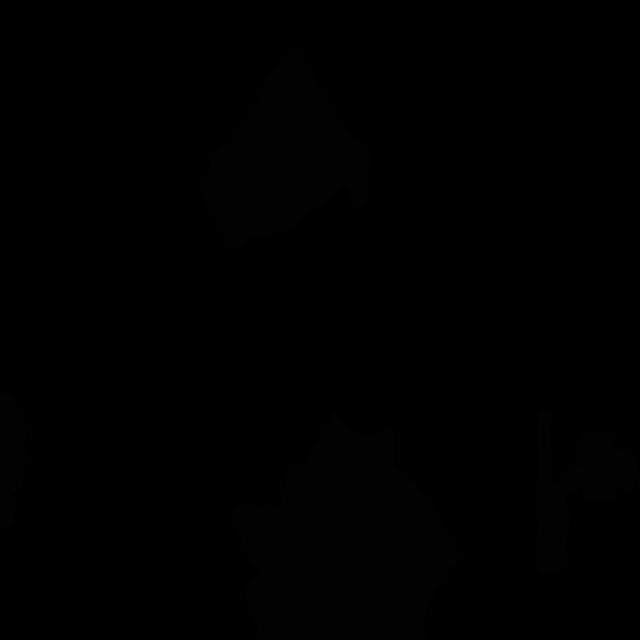cardboard: (230, 410, 461, 640), (199, 46, 370, 252), (535, 410, 640, 574), (0, 393, 30, 532)
